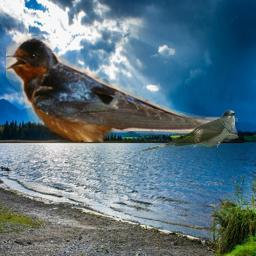Cuckoo: (139, 109, 235, 153)
Swallow: (6, 36, 238, 142)
